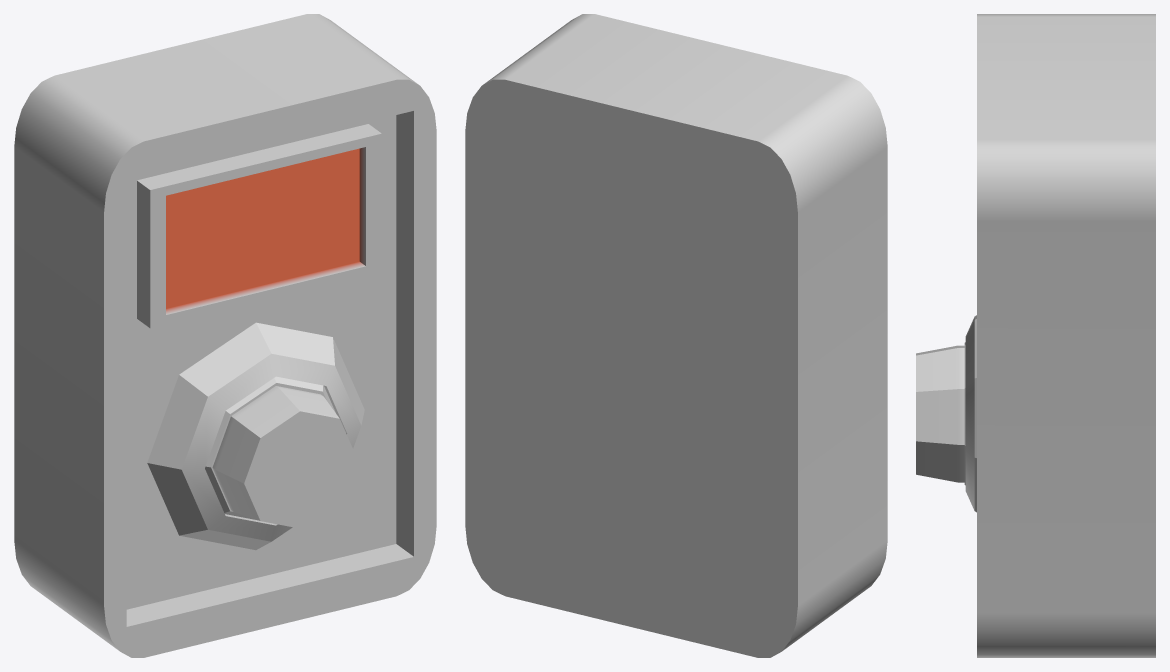
Rendered from Bouton.fbx.
3 views of the same model, side by side, from view 1: azimuth 30°, elevation 25°; view 2: azimuth 150°, elevation 25°; view 3: azimuth 270°, elevation 25° (orthographic).
Parts seen in each view (by area): view 1: Cube.001, Cylinder.001; view 2: Cube.001; view 3: Cube.001, Cylinder.001.
Boxes of the visible parts, x1,y1,x2,y2 form: Cube.001: [14, 14, 436, 657]; Cylinder.001: [212, 386, 356, 528]; Cube.001: [465, 14, 887, 657]; Cube.001: [964, 14, 1155, 657]; Cylinder.001: [916, 345, 964, 482].
Size of the model in its own units: 88.54 by 131 by 55.43.
